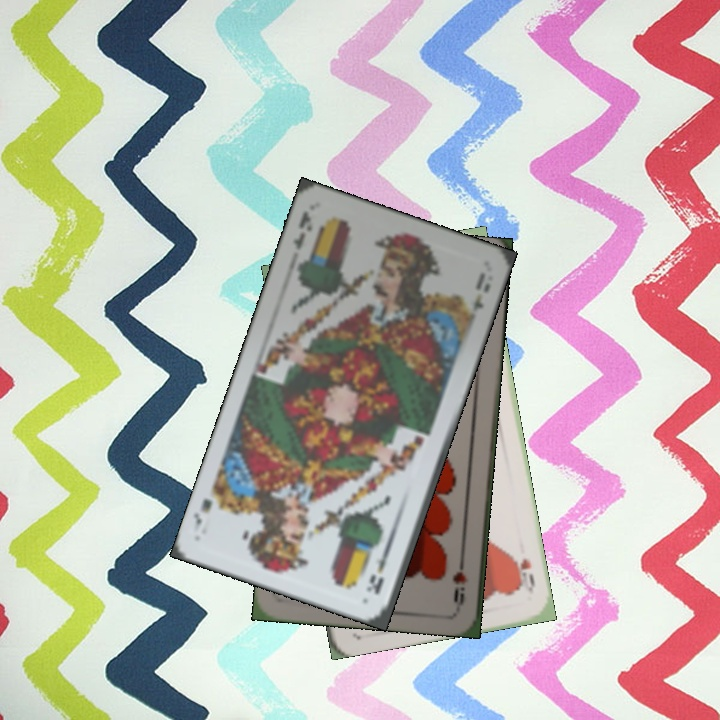EK: (362, 541, 393, 598), (289, 206, 315, 252)
H9: (449, 551, 471, 610)
HO: (509, 550, 538, 596)
